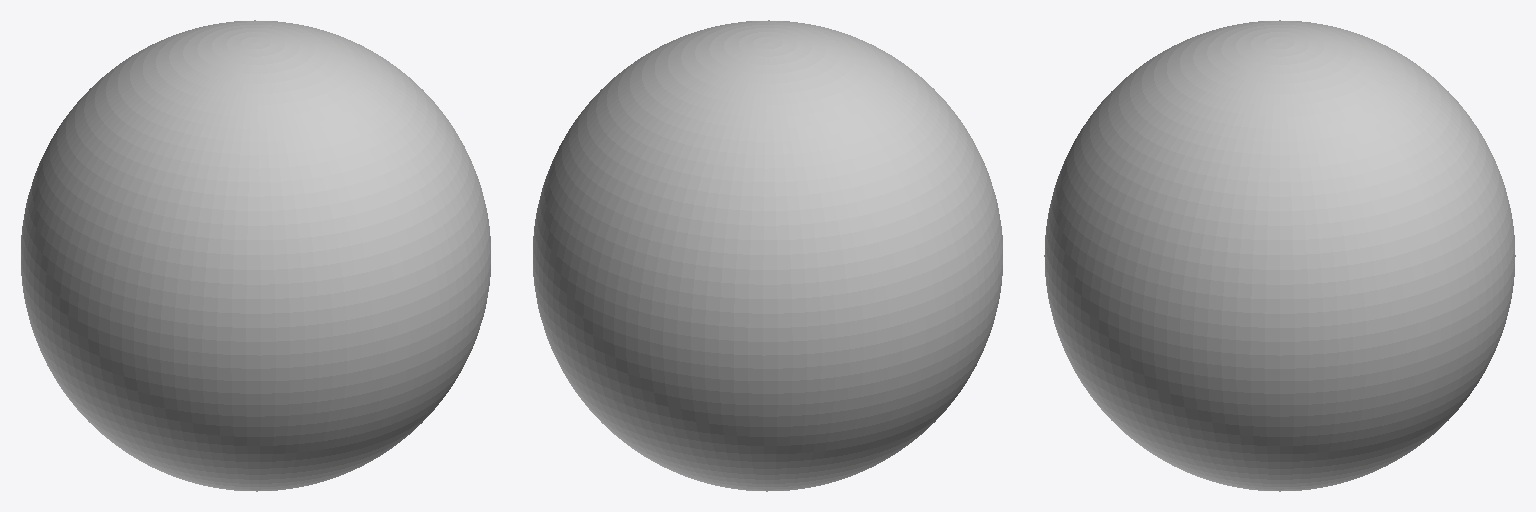
File: ball.obj
The picture shows the model from 3 angles: view 1: azimuth 30°, elevation 25°; view 2: azimuth 150°, elevation 25°; view 3: azimuth 270°, elevation 25°; orthographic projection.
Visible parts, largest first — view 1: Sphere_Sphere.002; view 2: Sphere_Sphere.002; view 3: Sphere_Sphere.002.
Part boxes in pixels (bbox=[...]): Sphere_Sphere.002: bbox=[21, 20, 490, 491]; Sphere_Sphere.002: bbox=[533, 20, 1002, 491]; Sphere_Sphere.002: bbox=[1044, 20, 1515, 491].
Size of the model in its own units: 2 by 2 by 2.